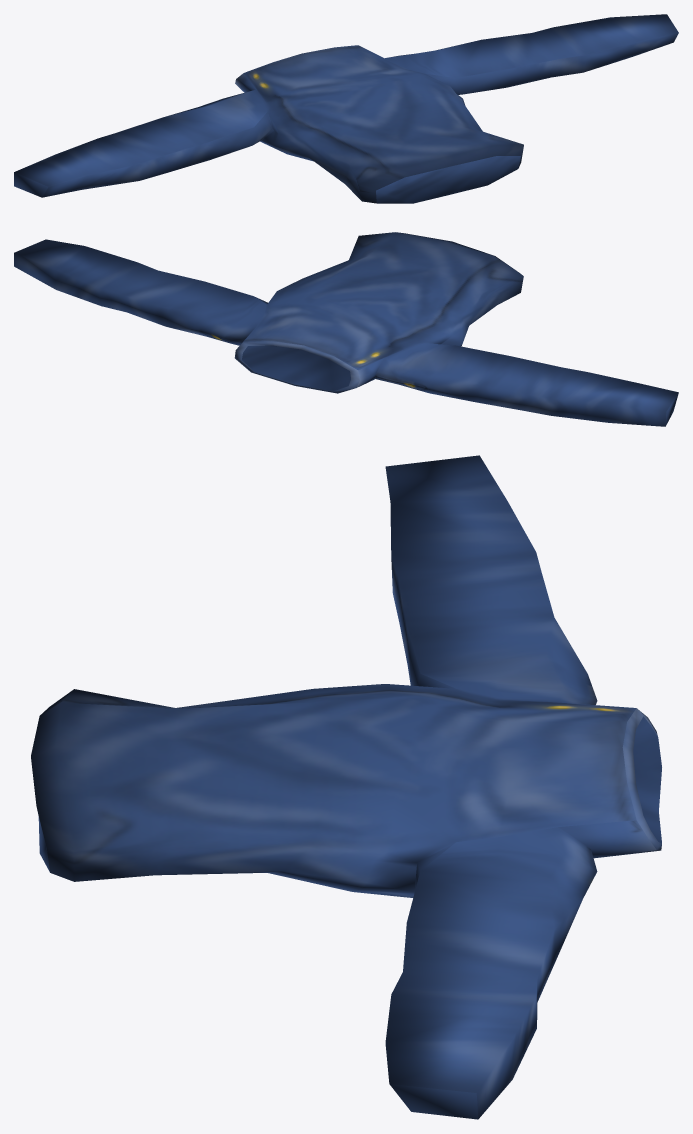
Rendered from Kurtk_6_Ground.fbx.
3 renders of one model, top to bottom at view 1: azimuth 30°, elevation 25°; view 2: azimuth 150°, elevation 25°; view 3: azimuth 270°, elevation 25°, orthographic. The views are drawn at different scales.
Parts seen in each view (by area): view 1: Body1; view 2: Body1; view 3: Body1.
Part boxes in pixels (x1,y1,x2,y2): Body1: (14,14,678,203); Body1: (14,232,678,426); Body1: (31,455,661,1119).
Bounding box in the file's own units: 0.7243 × 0.0428 × 0.3036.
